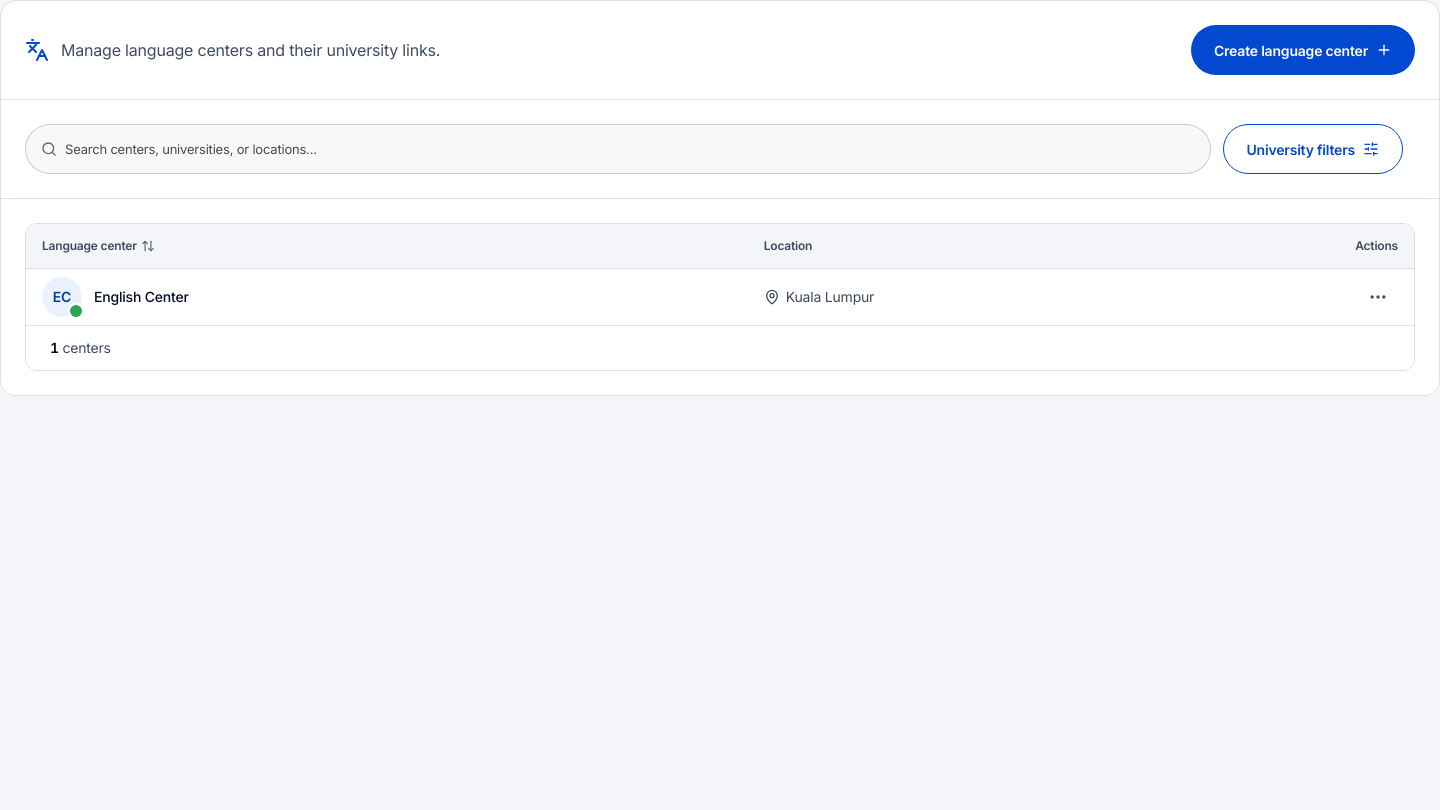
Test: scopes the university tab to its university and preselects it on creation
The image size is (1440, 810).
Click the button "Create language center": (1303, 50) [1191,25,1415,75]
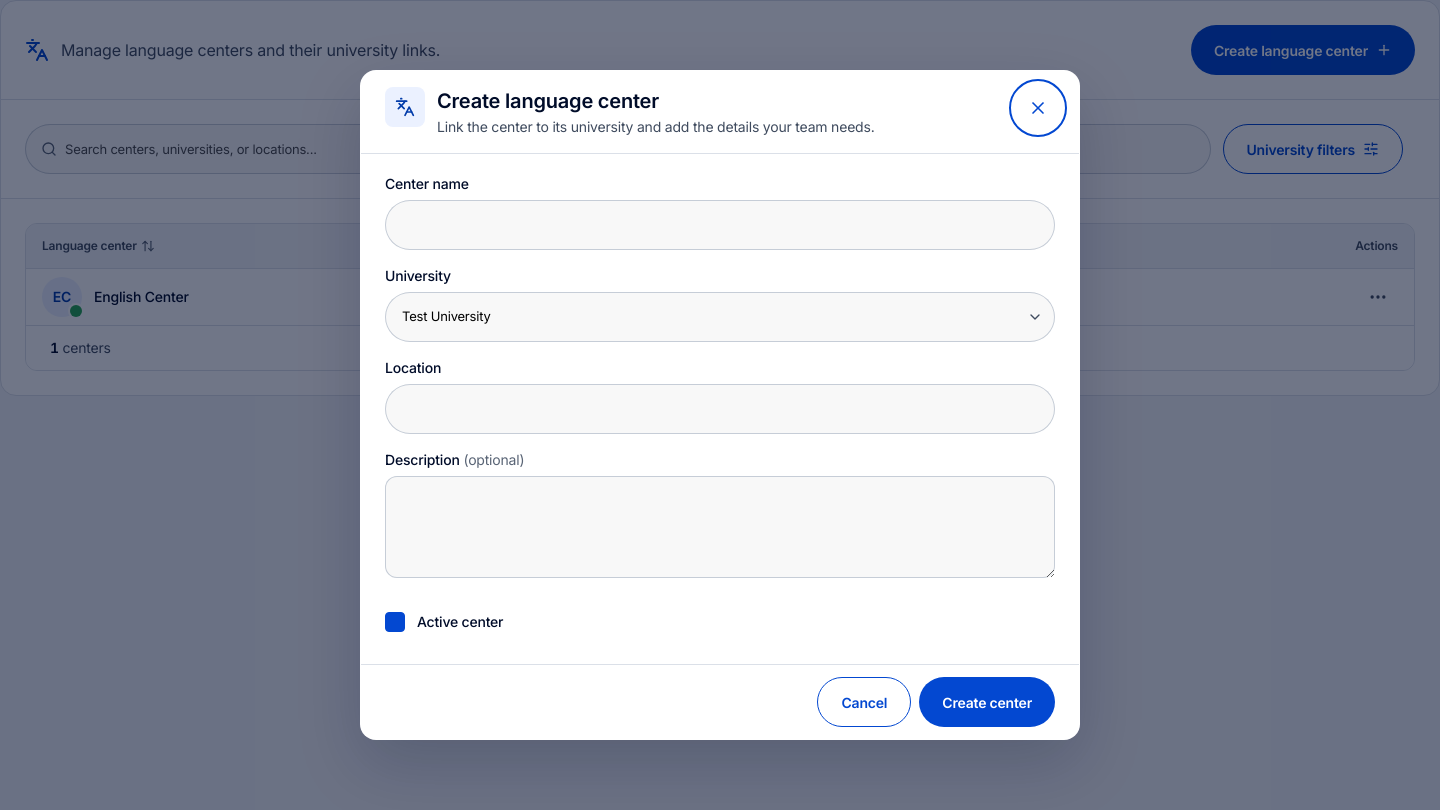
Result: the dropdown labelled "University" holds "uni-1" at [385,292,1055,342]
